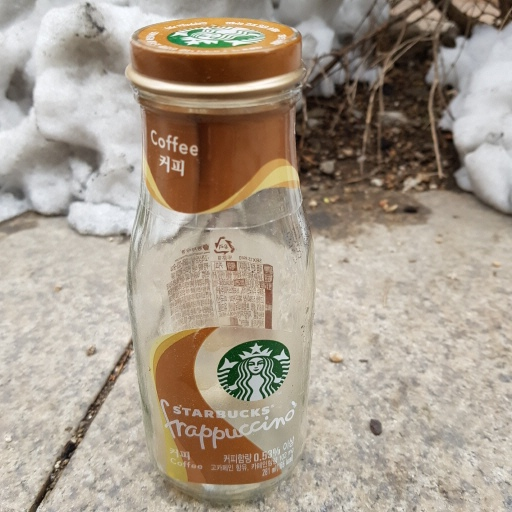Glass_4: (120, 17, 318, 500)
